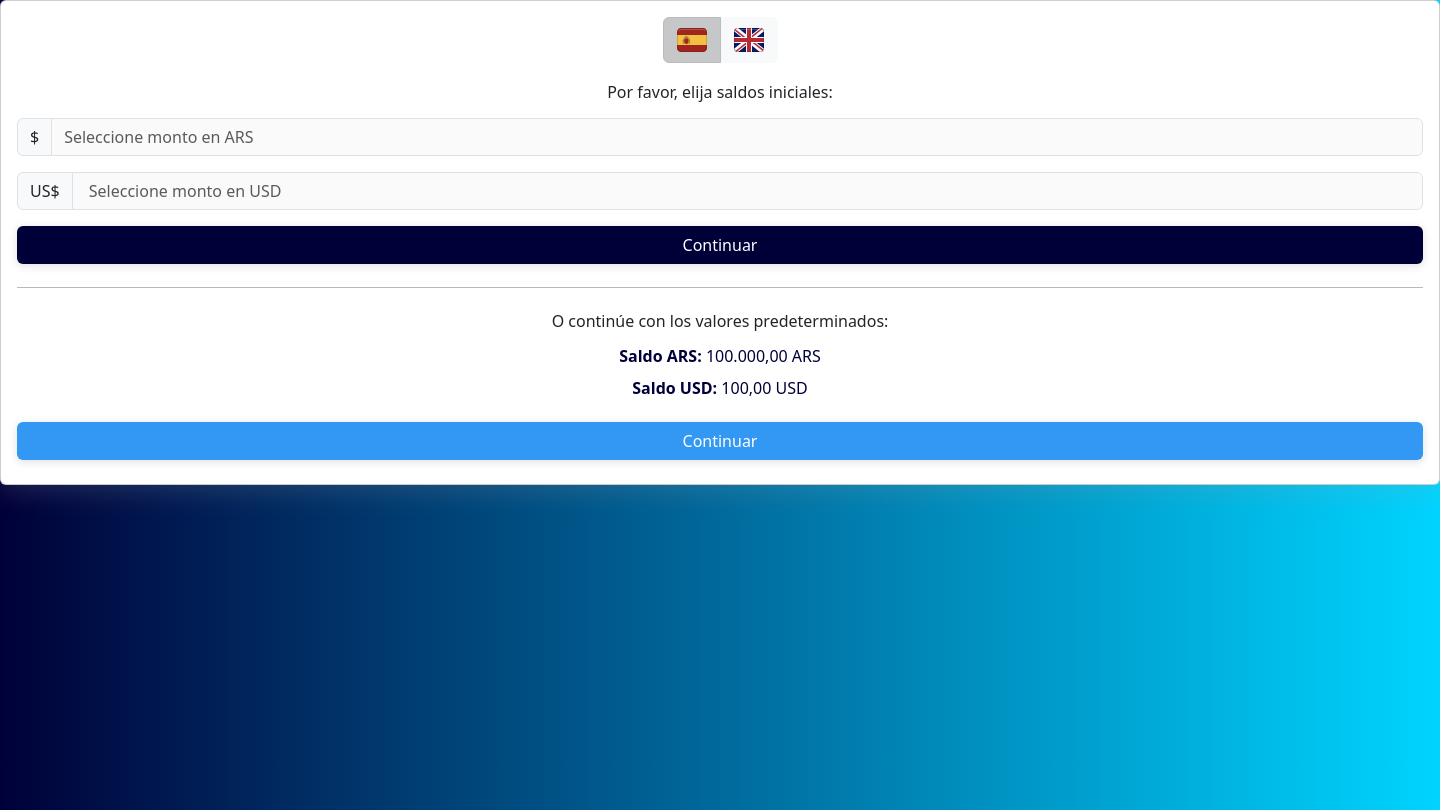
Scenario: ChooseAmounts Component › should show error message if ARS amount is greater than 100.000.000
Step 1. Type "100000000000" into the number field with placeholder "Seleccione monto en ARS" → point(737, 137), box [51,118,1423,156]
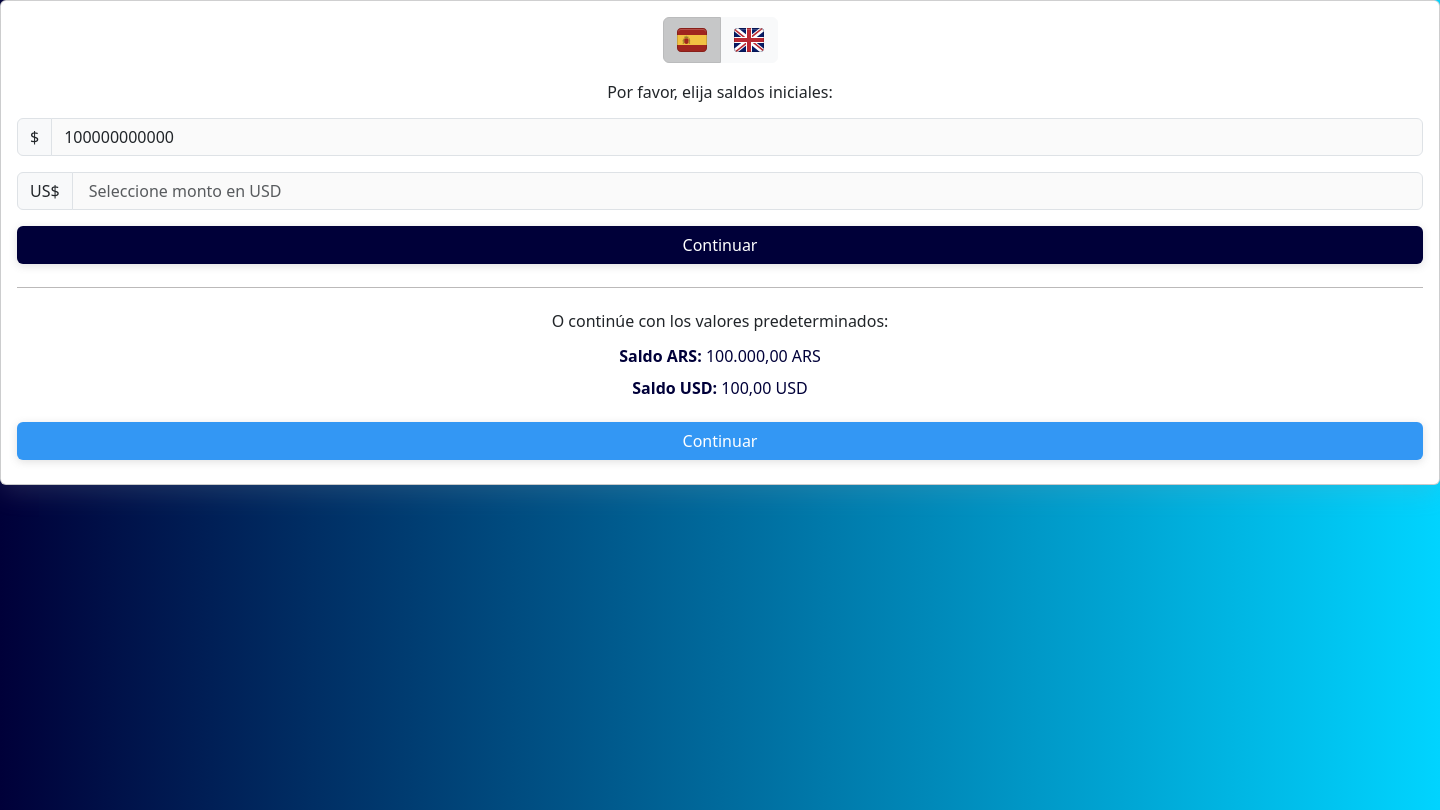
Step 2. Type "50" into the number field with placeholder "Seleccione monto en USD" → point(747, 191), box [72,172,1423,210]
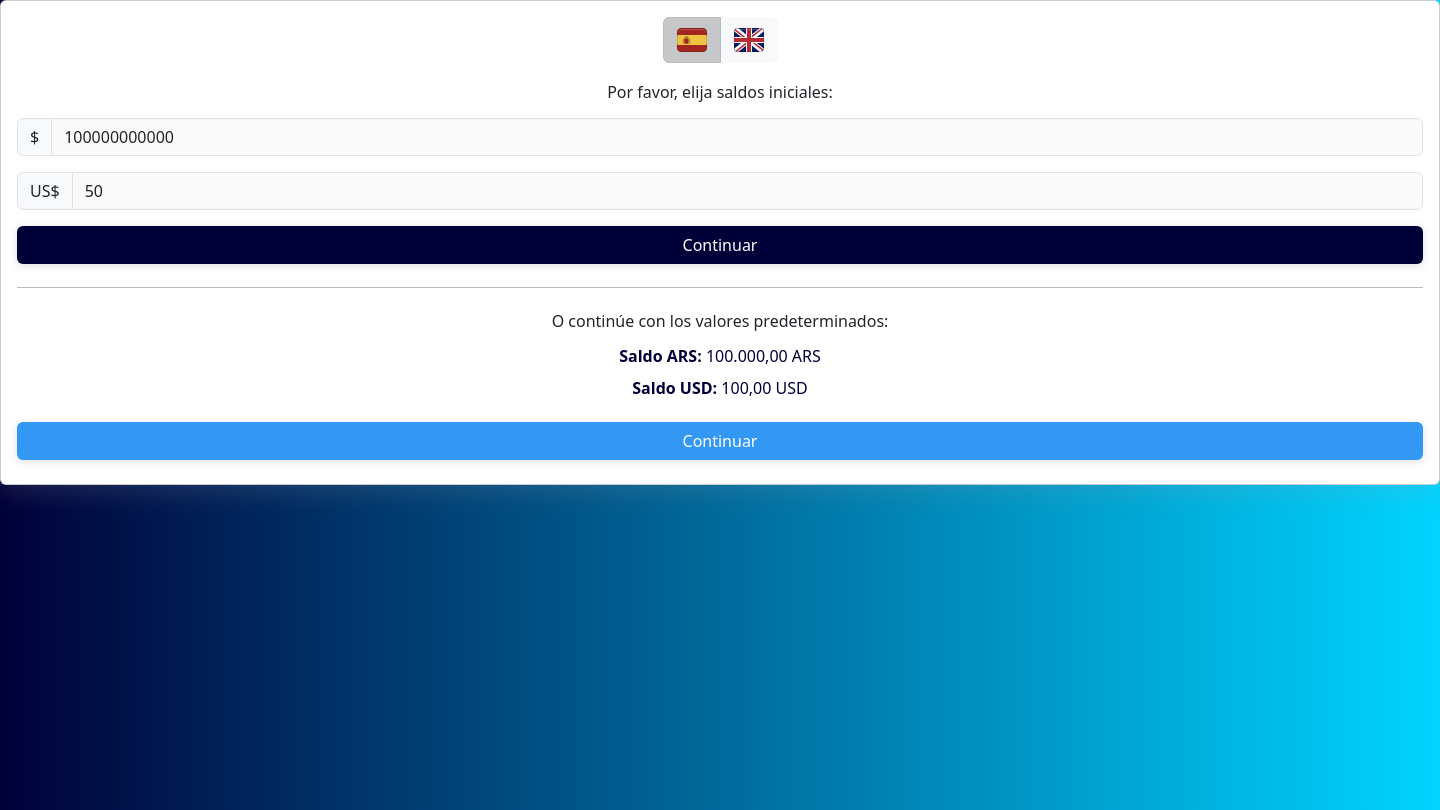
Step 3. Click the 1st button "Continuar" → point(720, 245), box [17,226,1423,264]
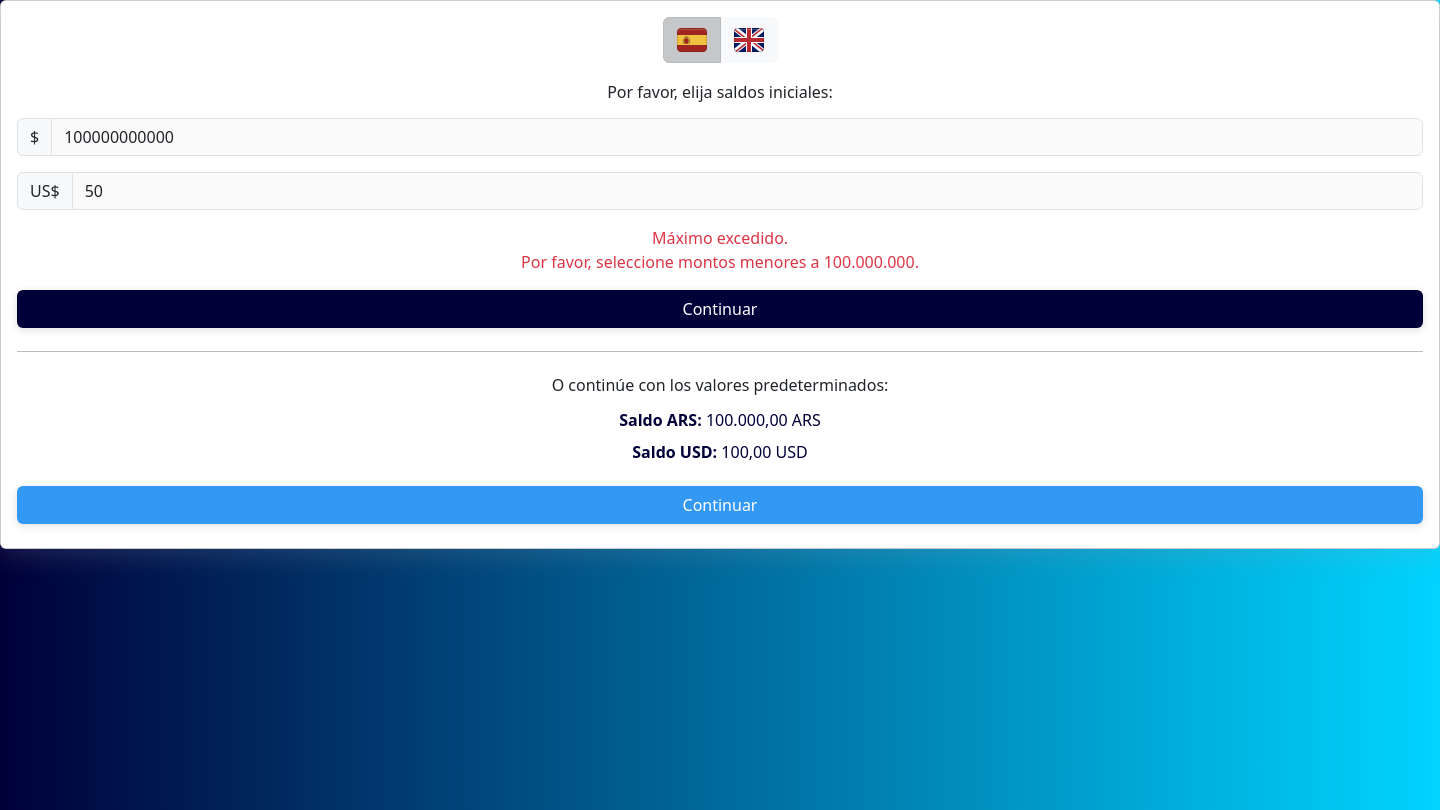
Expected: the text "Máximo excedido. Por favor, seleccione montos menores a 100.000.000." is shown, [521,227,919,273]
